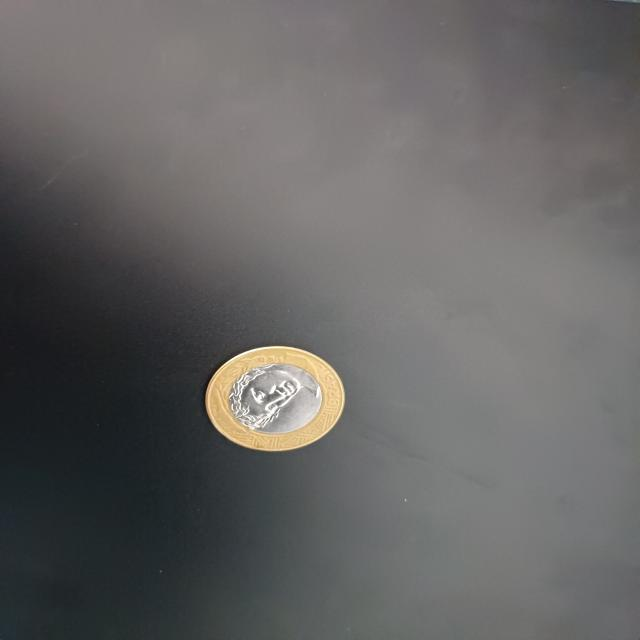1 real: (205, 343, 346, 453)
